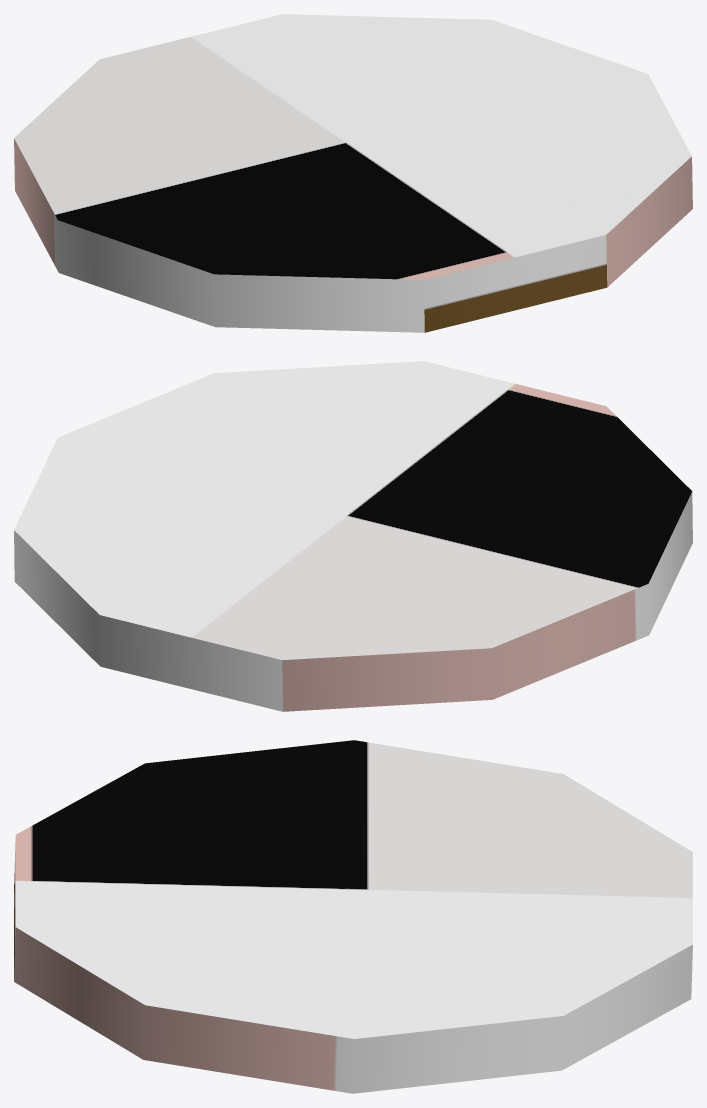
The model's file is SM_Prop_Food_Tomato_Sliced.fbx.
The picture shows the model from 3 angles, top to bottom: view 1: azimuth 30°, elevation 25°; view 2: azimuth 150°, elevation 25°; view 3: azimuth 270°, elevation 25°; orthographic projection. The views are drawn at different scales.
Visible parts, largest first — view 1: SM_Prop_food_Tomato; view 2: SM_Prop_food_Tomato; view 3: SM_Prop_food_Tomato.
Part boxes in pixels (left/top/right/bottom): SM_Prop_food_Tomato: left=14, top=14, right=692, bottom=332; SM_Prop_food_Tomato: left=14, top=361, right=692, bottom=711; SM_Prop_food_Tomato: left=14, top=740, right=692, bottom=1093.
Size of the model in its own units: 18.66 by 2.1 by 17.78.
